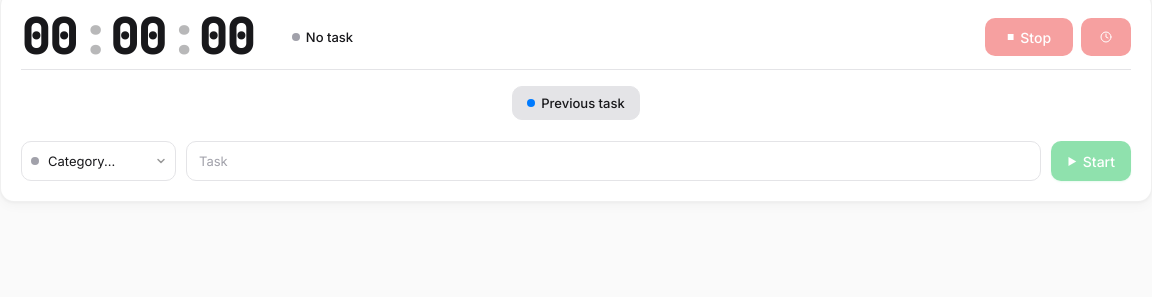
Test: TimeTracker › closes suggestions on Escape
The width and height of the screenshot is (1152, 297).
// Select a category first
Select "Development" in the dropdown: point(98, 161) [21,141,176,181]
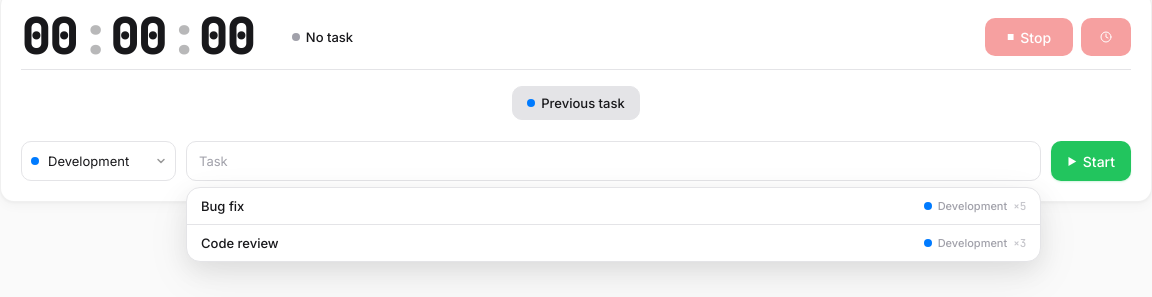
// Type in description to show suggestions
In the field with placeholder "Task": point(614, 161) [186,141,1042,181], type "Bug"
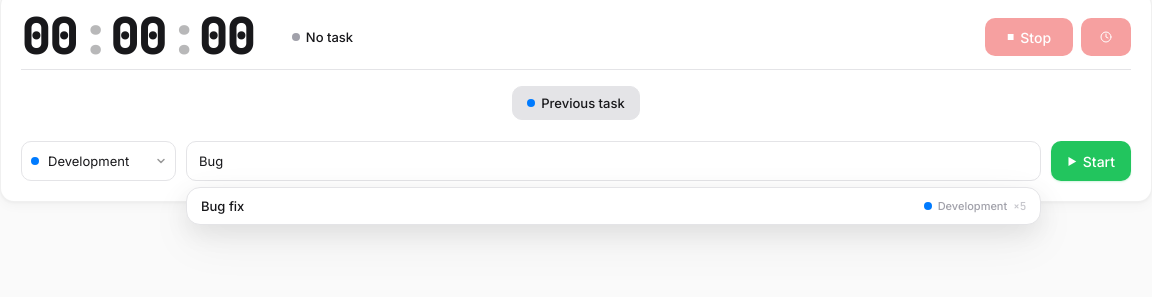
Now the text "Bug fix" is shown, box [201,198,244,214]
// Press Escape to close
Press Escape in the field with placeholder "Task", box [186,141,1042,181]
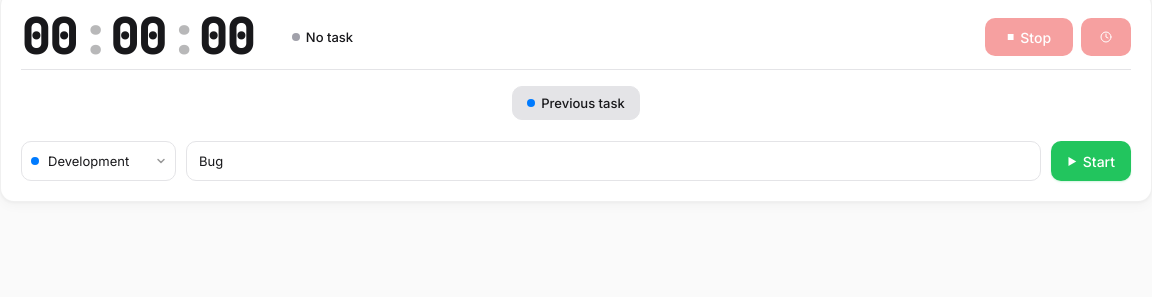
Now the button "Bug fix" is gone
